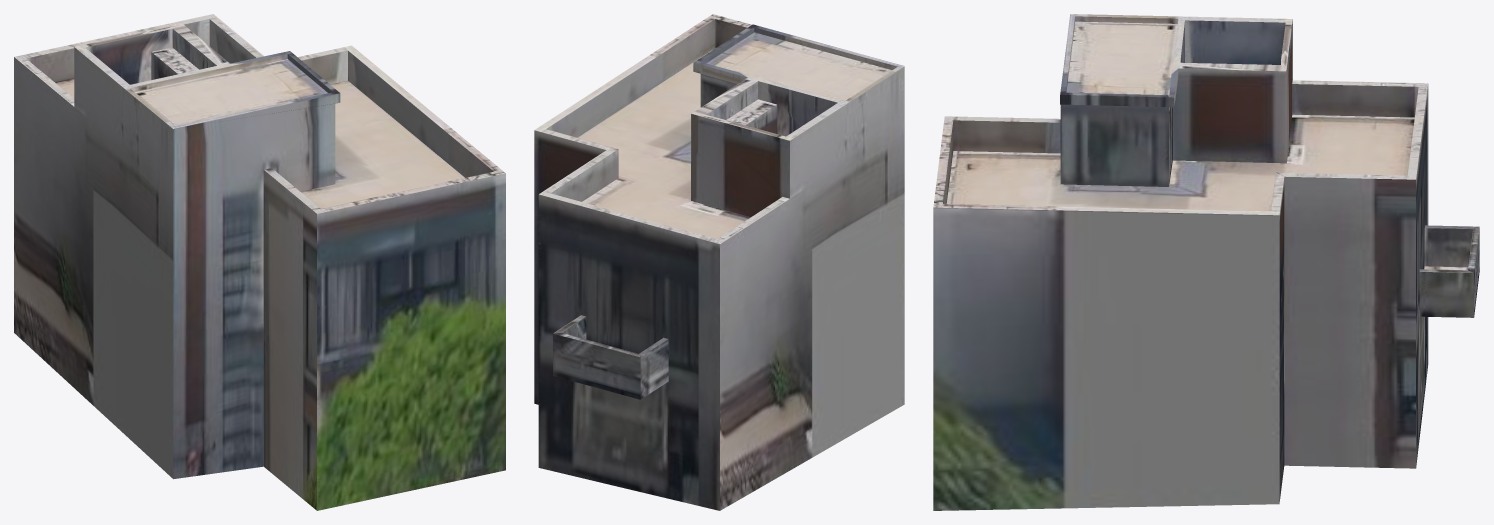
3 views of the same model, side by side, from view 1: azimuth 30°, elevation 25°; view 2: azimuth 150°, elevation 25°; view 3: azimuth 270°, elevation 25° (orthographic). The views are drawn at different scales.
Visible parts, largest first — view 1: B283354030701062A0; view 2: B283354030701062A0; view 3: B283354030701062A0.
Part boxes in pixels (<box>): B283354030701062A0: <box>14,14,505,510</box>; B283354030701062A0: <box>534,14,904,510</box>; B283354030701062A0: <box>933,14,1479,510</box>.
Size of the model in its own units: 9.11 by 11.05 by 15.01.
1 material, 1 textured.
